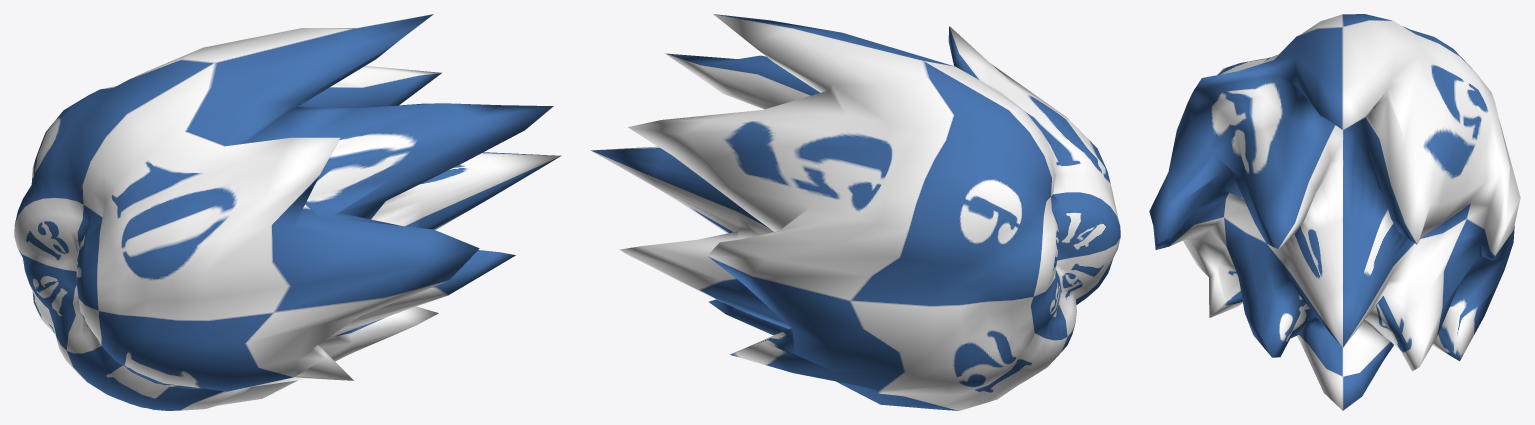
The model's file is Smoke2.fbx.
3 renders of one model, left to right at view 1: azimuth 30°, elevation 25°; view 2: azimuth 150°, elevation 25°; view 3: azimuth 270°, elevation 25°, orthographic. The views are drawn at different scales.
Parts seen in each view (by area): view 1: SM_e_cmn_Smoke002; view 2: SM_e_cmn_Smoke002; view 3: SM_e_cmn_Smoke002.
Part boxes in pixels (<box>): SM_e_cmn_Smoke002: <box>14,14,561,410</box>; SM_e_cmn_Smoke002: <box>591,14,1120,410</box>; SM_e_cmn_Smoke002: <box>1149,14,1520,410</box>.
Size of the model in its own units: 80.65 by 51.41 by 54.65.
